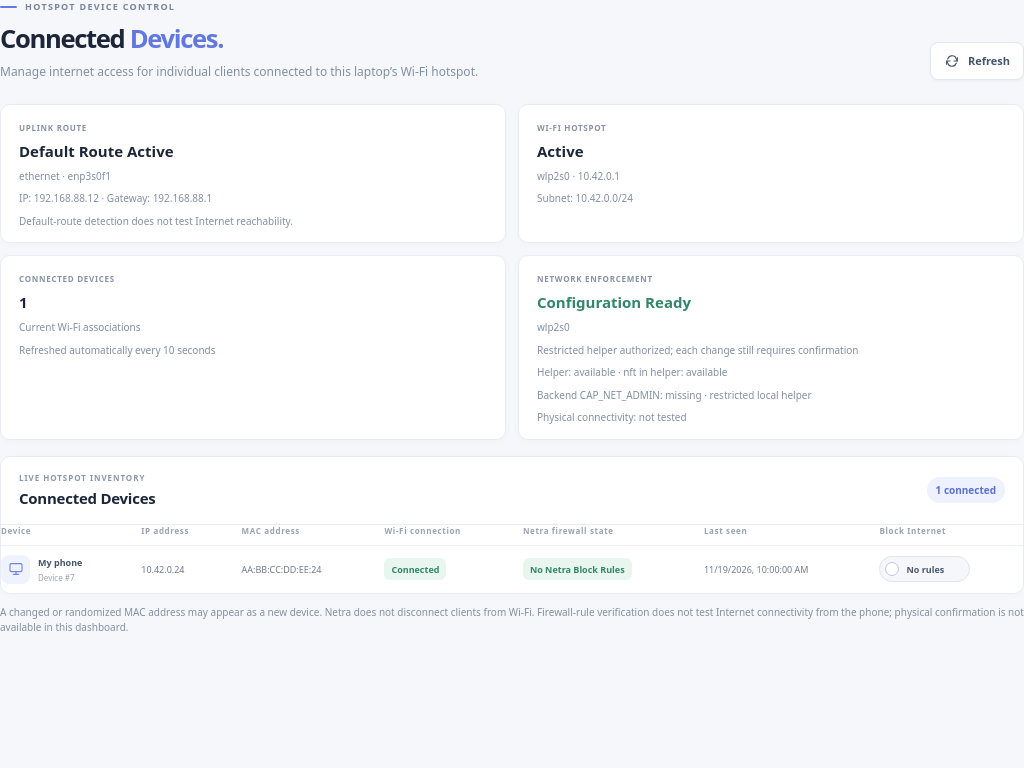
Test: ConnectedDevicesPage › keeps apply disabled when the backend dry-run plan blocks it
Step 1. Click the switch named "Install firewall restrictions for My phone" → point(925, 569), box left=879, top=556, right=970, bottom=582
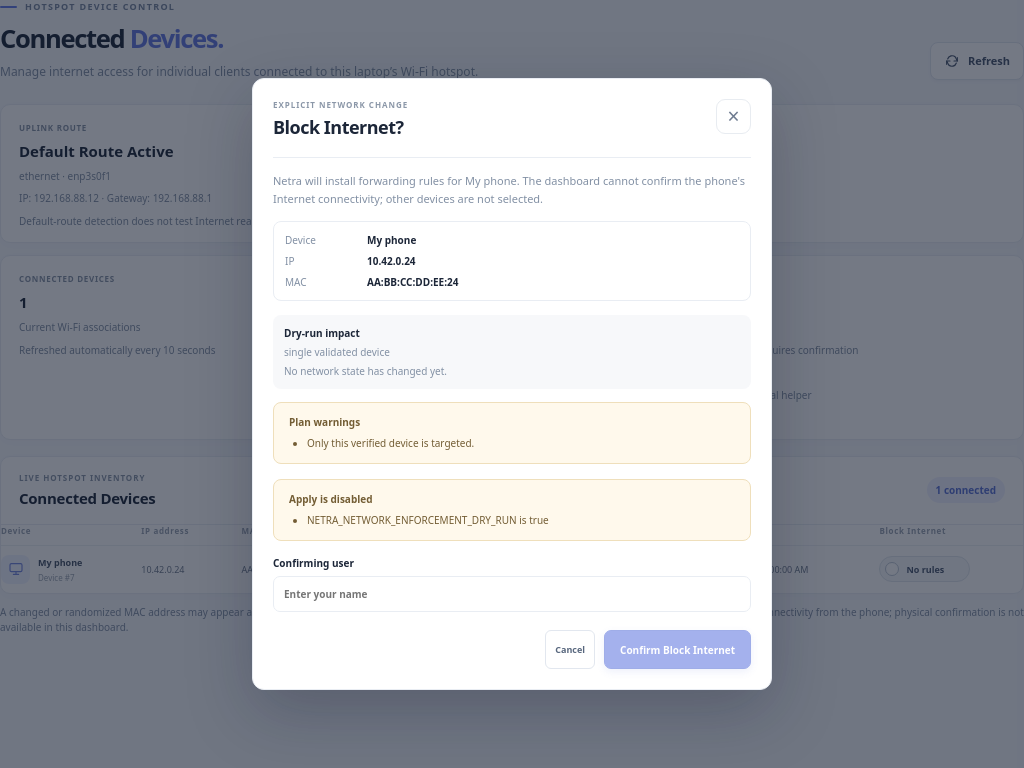
Result: the text "Apply is disabled" is shown at left=289, top=492, right=372, bottom=506
Result: the button "Confirm Block Internet" is disabled at left=604, top=630, right=751, bottom=669
